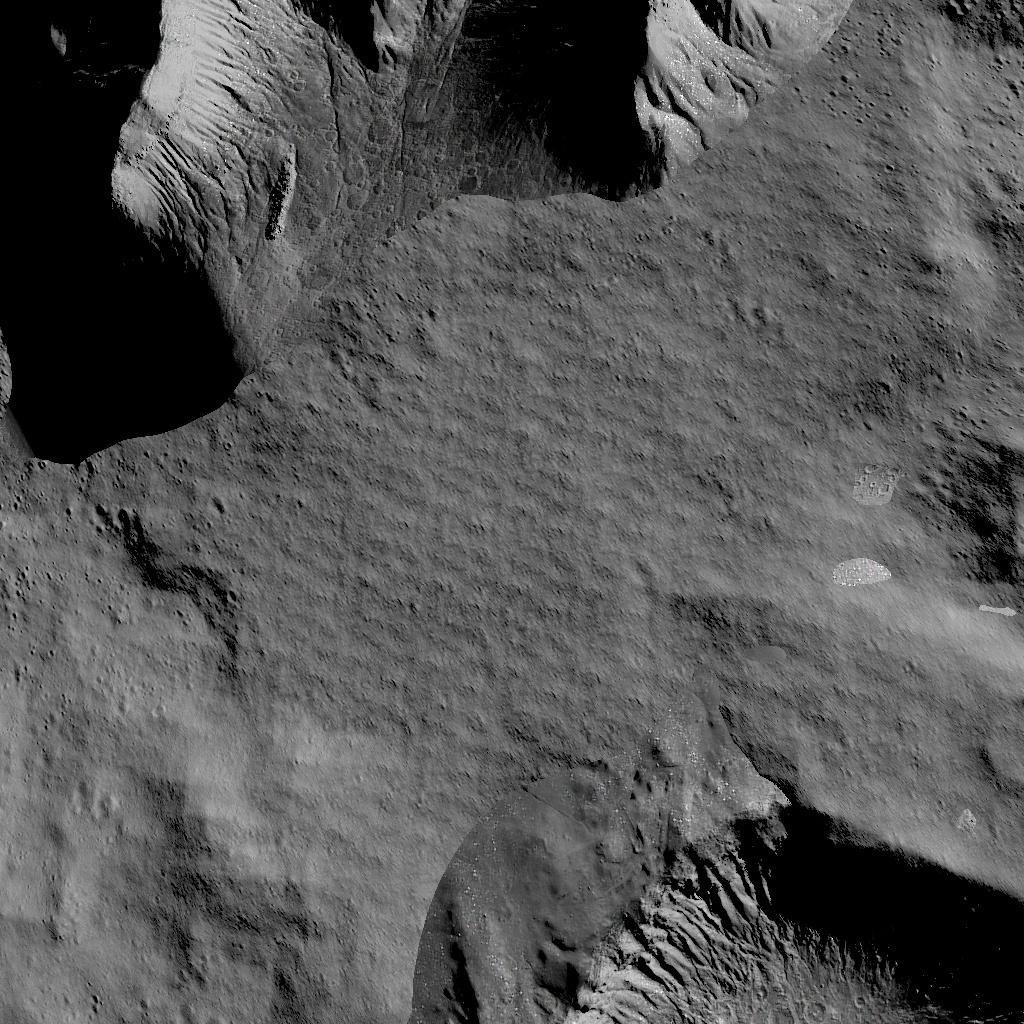Boulders: (37, 1, 862, 375)
Crater: (445, 730, 1024, 1024), (935, 406, 1024, 610)
Plan surface: (1, 464, 411, 1024), (436, 400, 916, 682), (903, 0, 1024, 351)
